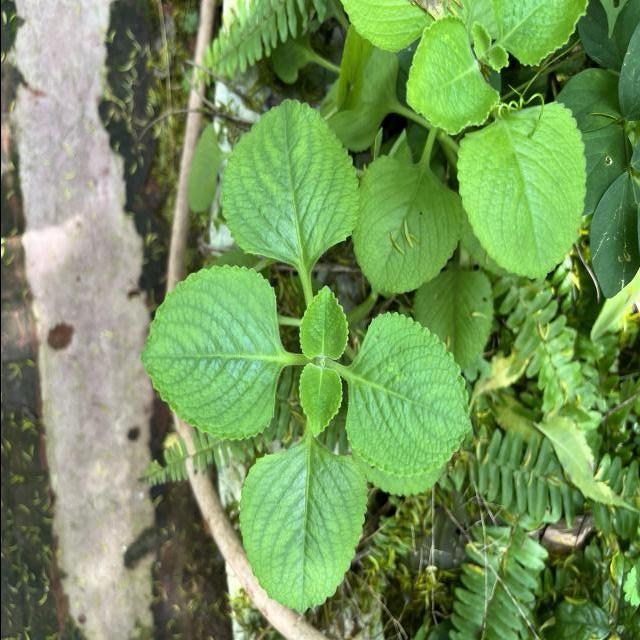Plectranthus barbatus: (138, 262, 282, 443), (453, 99, 588, 283), (218, 96, 359, 268), (236, 443, 370, 614), (343, 310, 473, 478), (348, 154, 464, 296), (404, 14, 500, 136), (296, 284, 348, 360), (298, 362, 342, 438)
